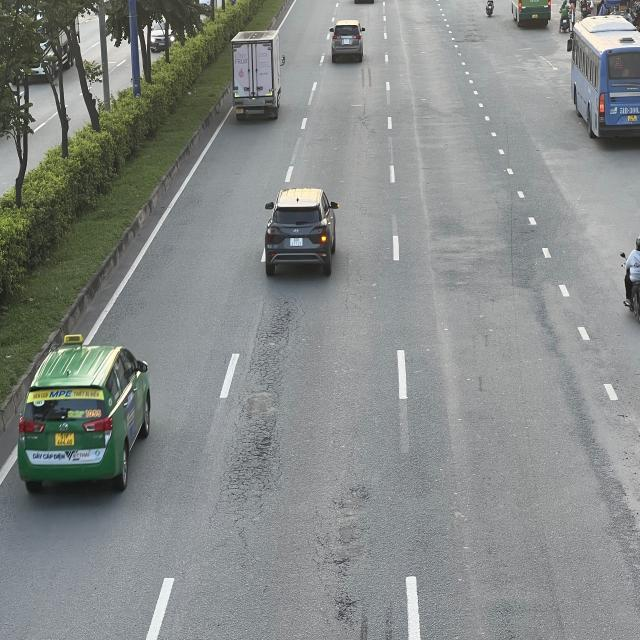car: (15, 341, 153, 495), (262, 188, 338, 280), (330, 19, 368, 64)
coach: (569, 15, 640, 141)
truck: (230, 32, 284, 121)
